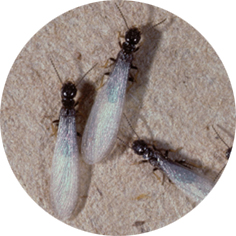flying termite: (82, 19, 142, 173), (40, 54, 85, 235), (125, 128, 218, 208)
